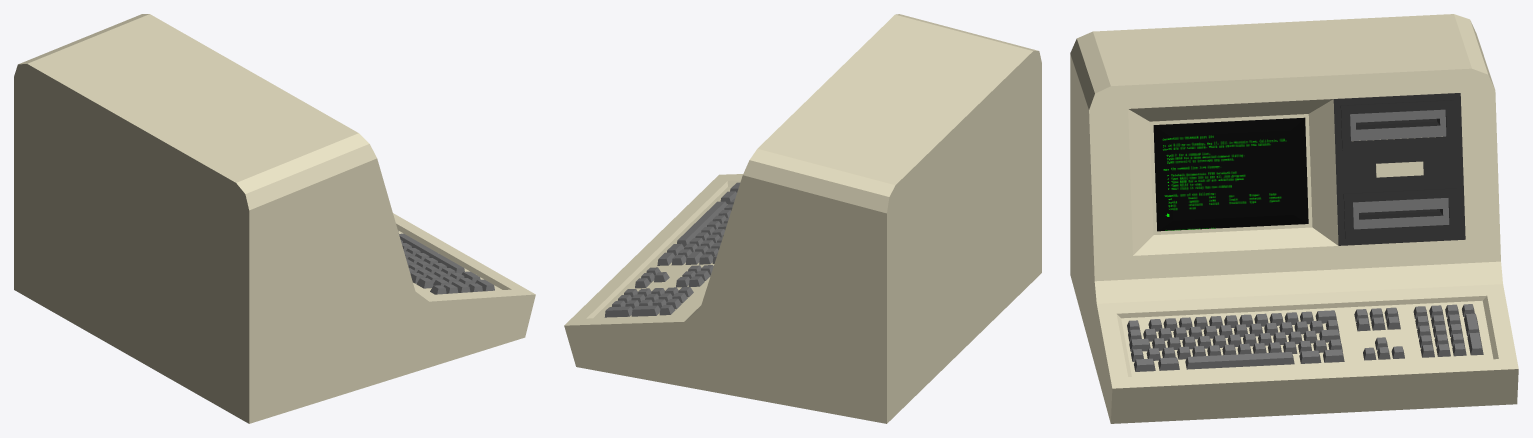
File: old_computer_1.glb
3 views of the same model, side by side, from view 1: azimuth 30°, elevation 25°; view 2: azimuth 150°, elevation 25°; view 3: azimuth 270°, elevation 25° (orthographic). The views are drawn at different scales.
Parts seen in each view (by area): view 1: PC, Plane.045; view 2: PC, Plane.045; view 3: PC, Plane.046, Plane.045.
Part boxes in pixels (x1=…): PC: x1=14, y1=14, x2=535, y2=423; Plane.045: x1=398, y1=230, x2=494, y2=294; PC: x1=564, y1=14, x2=1041, y2=423; Plane.045: x1=604, y1=182, x2=739, y2=317; PC: x1=1070, y1=14, x2=1518, y2=423; Plane.046: x1=1333, y1=93, x2=1465, y2=245; Plane.045: x1=1127, y1=304, x2=1483, y2=371.
Bounding box in the file's own units: 1.58 × 1.07 × 1.71.
4 materials, 1 textured.
